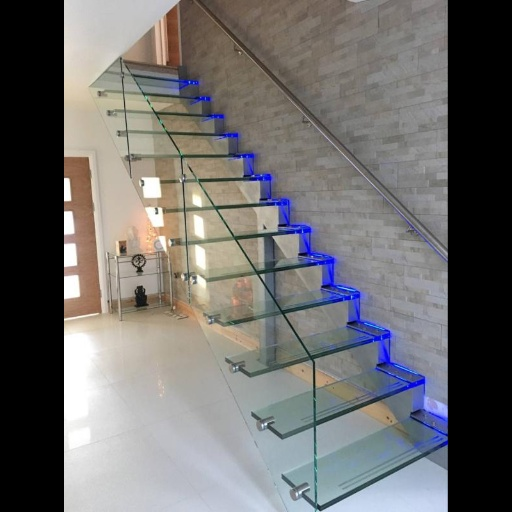Stairs: (92, 60, 447, 512)
